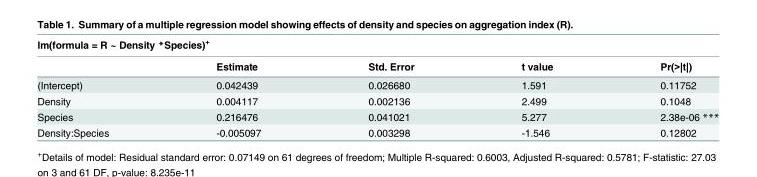table: (36, 36, 718, 137)
table column: (313, 36, 467, 137), (161, 36, 313, 137), (467, 36, 605, 137), (36, 36, 161, 137), (605, 36, 718, 137)
table column header: (36, 36, 718, 75)
table row: (36, 55, 718, 75), (36, 36, 718, 55), (36, 75, 718, 92), (36, 92, 718, 108), (36, 108, 718, 124), (36, 124, 718, 137)
table spanning cell: (36, 36, 718, 55)
